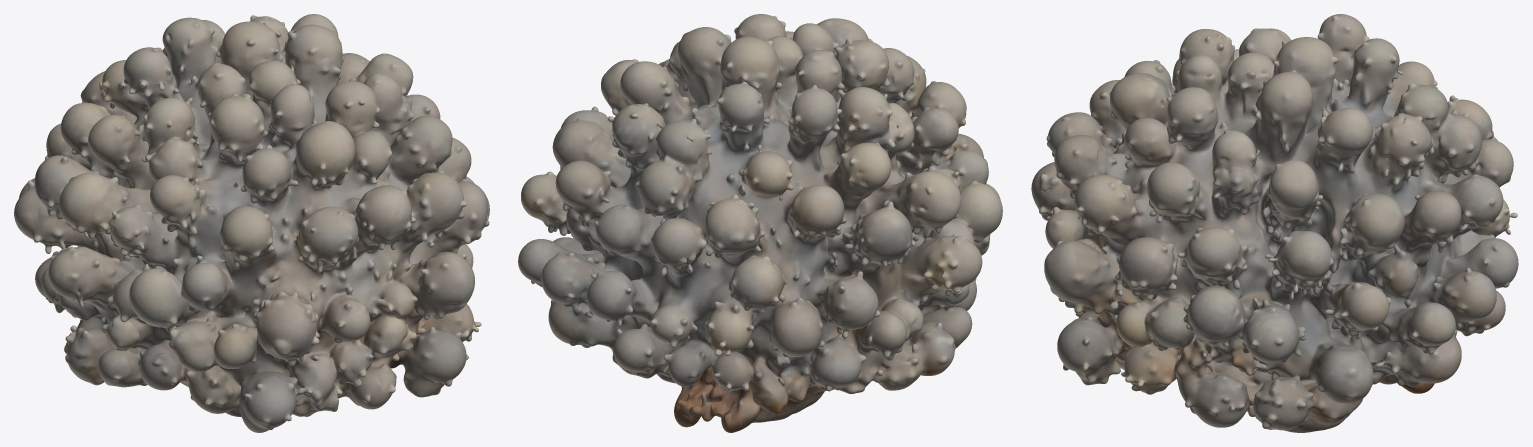
The model's file is coral_bubble.glb.
3 views of the same model, side by side, from view 1: azimuth 30°, elevation 25°; view 2: azimuth 150°, elevation 25°; view 3: azimuth 270°, elevation 25° (orthographic).
Visible parts, largest first — view 1: tripo_node_e2ddffae-856a-41bc-a3d0-1c1451b8b479; view 2: tripo_node_e2ddffae-856a-41bc-a3d0-1c1451b8b479; view 3: tripo_node_e2ddffae-856a-41bc-a3d0-1c1451b8b479.
Part boxes in pixels (left/top/right/bottom): tripo_node_e2ddffae-856a-41bc-a3d0-1c1451b8b479: left=14, top=14, right=489, bottom=432; tripo_node_e2ddffae-856a-41bc-a3d0-1c1451b8b479: left=518, top=14, right=1002, bottom=432; tripo_node_e2ddffae-856a-41bc-a3d0-1c1451b8b479: left=1031, top=14, right=1518, bottom=432.
Size of the model in its own units: 0.9999 by 0.853 by 0.9921.
1 material, 1 textured.
